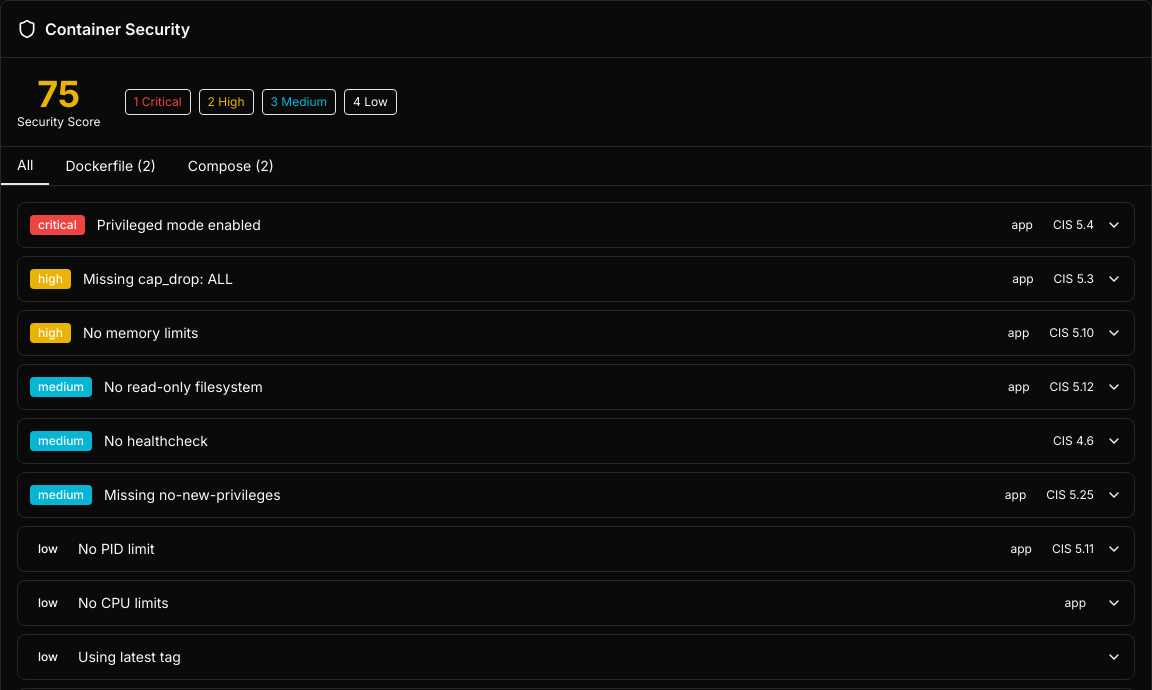
Test: ContainerSecurityPanel › filtering › filters findings by source
The image size is (1152, 690).
What coordinates should you click on to do the following:
click the tab "Dockerfile (2)"
I would click on:
 (111, 166)
Its box is left=50, top=147, right=172, bottom=185.
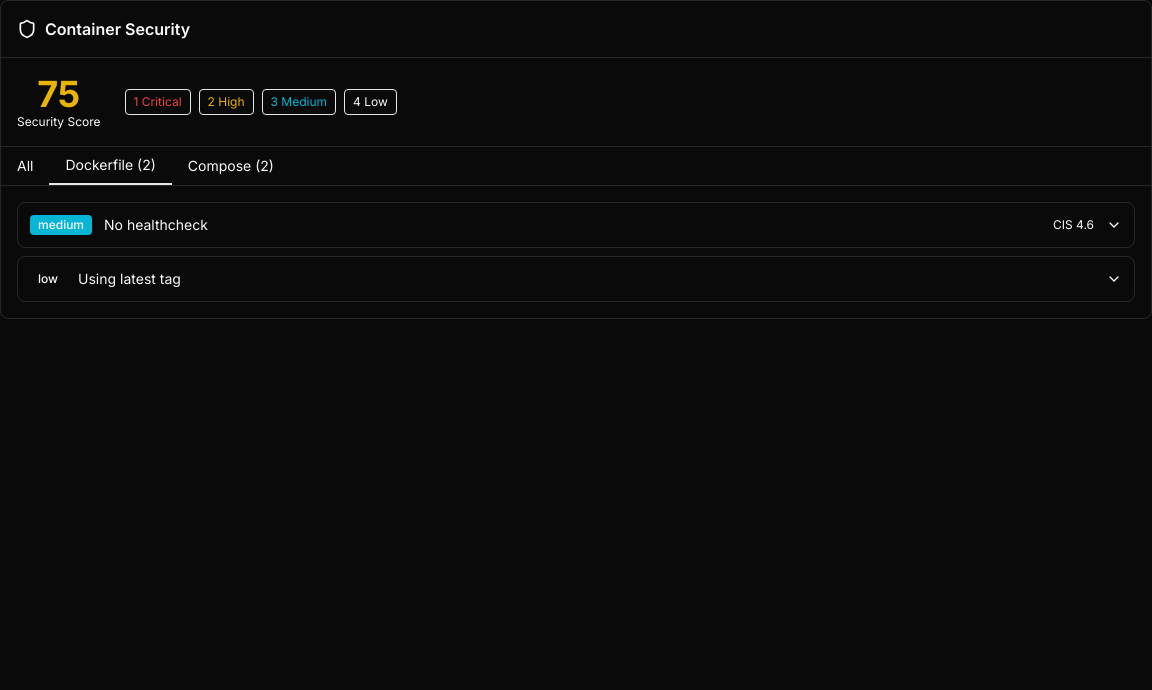
expect the text "No healthcheck" is shown: met, box left=104, top=216, right=208, bottom=233
